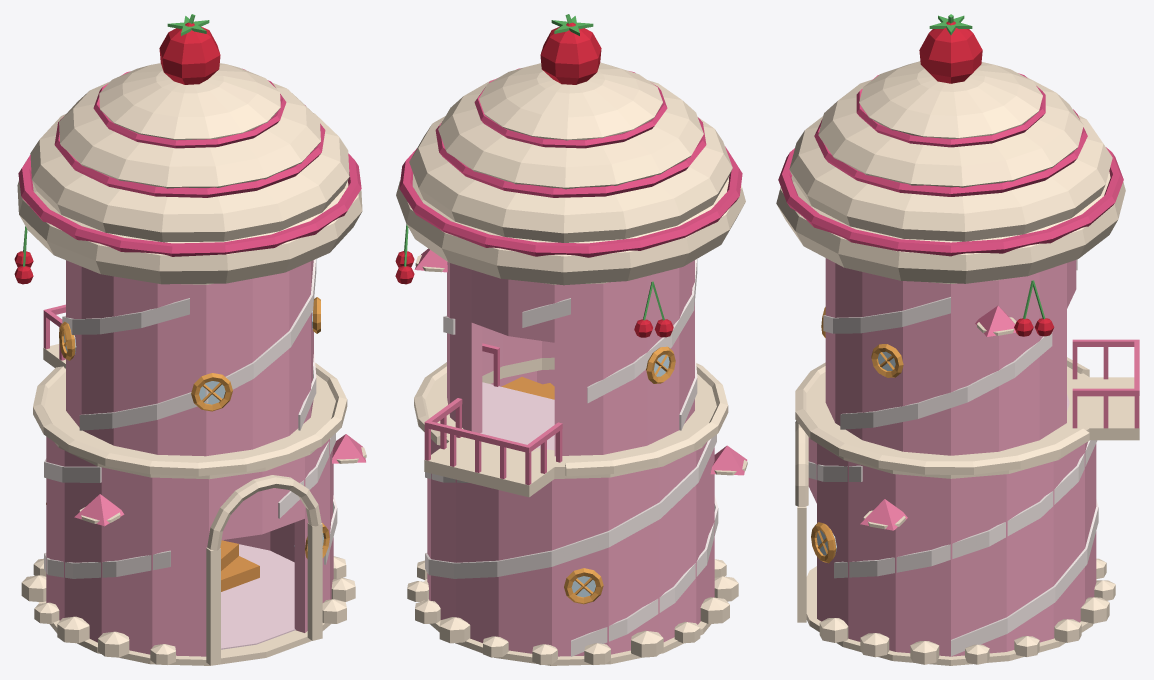
The model's file is CV3_CaramelTower.fbx.
The picture shows the model from 3 angles, left to right: view 1: azimuth 30°, elevation 25°; view 2: azimuth 150°, elevation 25°; view 3: azimuth 270°, elevation 25°; orthographic projection.
Visible parts, largest first — view 1: CV3_CaramelTower_Walls, CV3_CaramelTower_Cap, CV3_CaramelTower_Ledge, CV3_CaramelTower_Stripes, CV3_CaramelTower_CapBand, CV3_CaramelTower_Base, CV3_CaramelTower_Floor, CV3_CaramelTower_Strawberry, CV3_CaramelTower_Trim, CV3_CaramelTower_WindowFrame, CV3_CaramelTower_Stairs, CV3_CaramelTower_Leaf; view 2: CV3_CaramelTower_Walls, CV3_CaramelTower_Cap, CV3_CaramelTower_Ledge, CV3_CaramelTower_Stripes, CV3_CaramelTower_CapBand, CV3_CaramelTower_Base, CV3_CaramelTower_Trim, CV3_CaramelTower_Strawberry, CV3_CaramelTower_Floor, CV3_CaramelTower_WindowFrame, CV3_CaramelTower_Leaf, CV3_CaramelTower_Stairs; view 3: CV3_CaramelTower_Walls, CV3_CaramelTower_Cap, CV3_CaramelTower_Stripes, CV3_CaramelTower_Ledge, CV3_CaramelTower_CapBand, CV3_CaramelTower_Base, CV3_CaramelTower_Trim, CV3_CaramelTower_Strawberry, CV3_CaramelTower_WindowFrame, CV3_CaramelTower_Leaf.
Boxes of the visible parts, x1,y1,x2,y2 form: CV3_CaramelTower_Walls: (46,260,333,656); CV3_CaramelTower_Cap: (17,63,362,665); CV3_CaramelTower_Ledge: (33,344,366,523); CV3_CaramelTower_Stripes: (44,259,337,578); CV3_CaramelTower_CapBand: (18,68,361,256); CV3_CaramelTower_Base: (21,556,355,665); CV3_CaramelTower_Floor: (221,544,295,649); CV3_CaramelTower_Strawberry: (14,22,220,284); CV3_CaramelTower_Trim: (43,304,365,526); CV3_CaramelTower_WindowFrame: (46,297,329,558); CV3_CaramelTower_Stairs: (220,540,259,591); CV3_CaramelTower_Leaf: (23,14,209,266); CV3_CaramelTower_Walls: (427,260,714,656); CV3_CaramelTower_Cap: (396,62,745,285); CV3_CaramelTower_Ledge: (414,255,747,497); CV3_CaramelTower_Stripes: (425,259,718,656); CV3_CaramelTower_CapBand: (399,68,742,257); CV3_CaramelTower_Base: (407,559,738,665); CV3_CaramelTower_Trim: (414,248,747,485); CV3_CaramelTower_Strawberry: (395,22,673,337); CV3_CaramelTower_Floor: (480,382,554,451); CV3_CaramelTower_WindowFrame: (564,346,675,604); CV3_CaramelTower_Leaf: (404,14,664,320); CV3_CaramelTower_Stairs: (501,377,554,399); CV3_CaramelTower_Walls: (808,258,1096,656); CV3_CaramelTower_Cap: (776,61,1125,622); CV3_CaramelTower_Stripes: (808,259,1098,656); CV3_CaramelTower_Ledge: (795,317,1139,529); CV3_CaramelTower_CapBand: (778,73,1123,256); CV3_CaramelTower_Base: (806,558,1115,665); CV3_CaramelTower_Trim: (860,305,1139,530); CV3_CaramelTower_Strawberry: (919,21,1054,336); CV3_CaramelTower_WindowFrame: (811,307,903,563); CV3_CaramelTower_Leaf: (929,14,1045,319).
Bounding box in the file's own units: 26.5 × 49.17 × 27.55.
